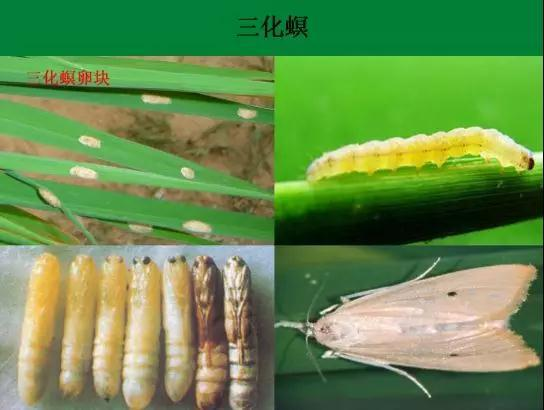Crambidae: (280, 258, 542, 403)
